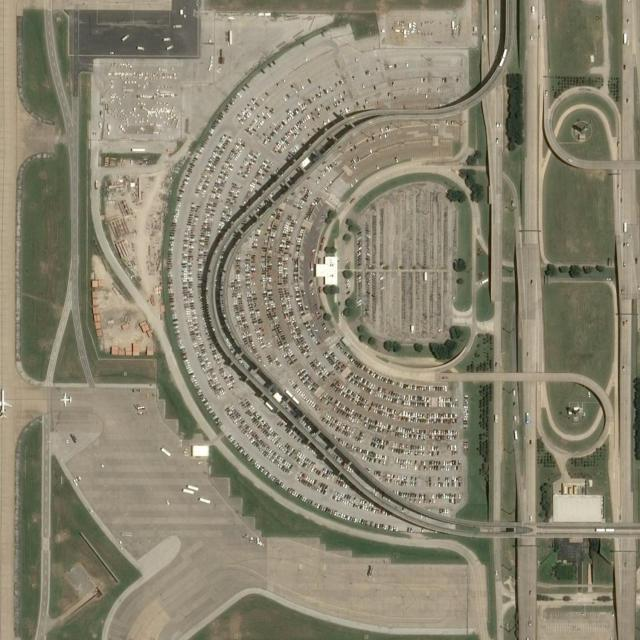Aircraft: (0, 388, 12, 417), (59, 391, 72, 407)
